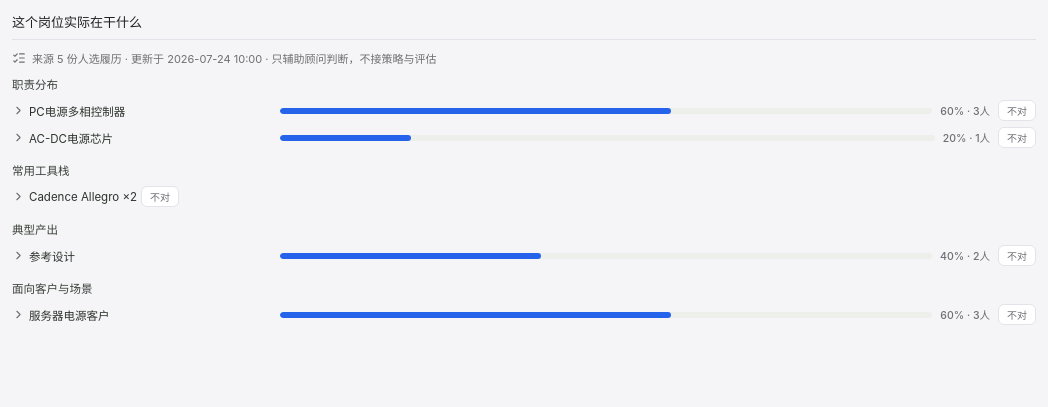
Test case: 岗位画像区块（JobProfileInsights） › 示例证据展开：遮罩名 + 简历逐字片段
Expected: the text "负责PC电源多相控制器产品线市场推广" is not shown
What coordinates should you click on to do the following:
click the button "PC电源多相控制器"
I would click on:
 (77, 112)
Its box is [12,102,272,118].
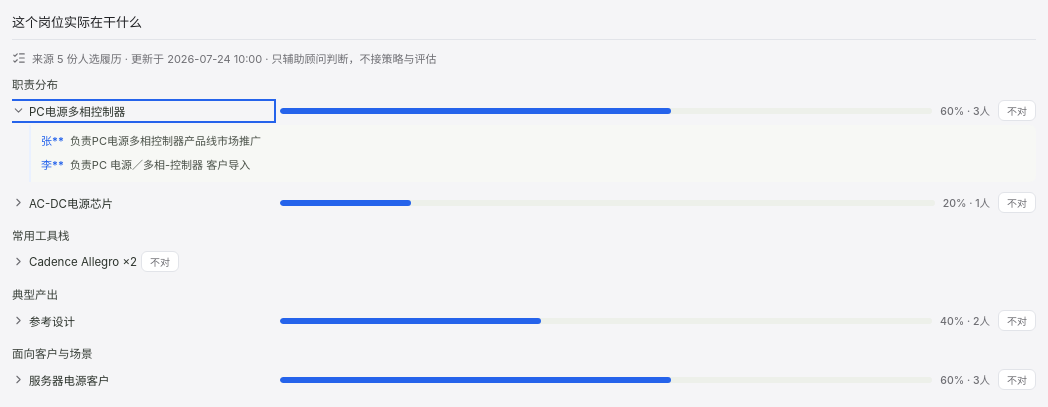
Result: the text "负责PC电源多相控制器产品线市场推广" is shown at [70,134,261,148]
Result: the text "张**" is shown at [41,133,64,151]
Result: the text "李**" is shown at [41,157,64,174]
